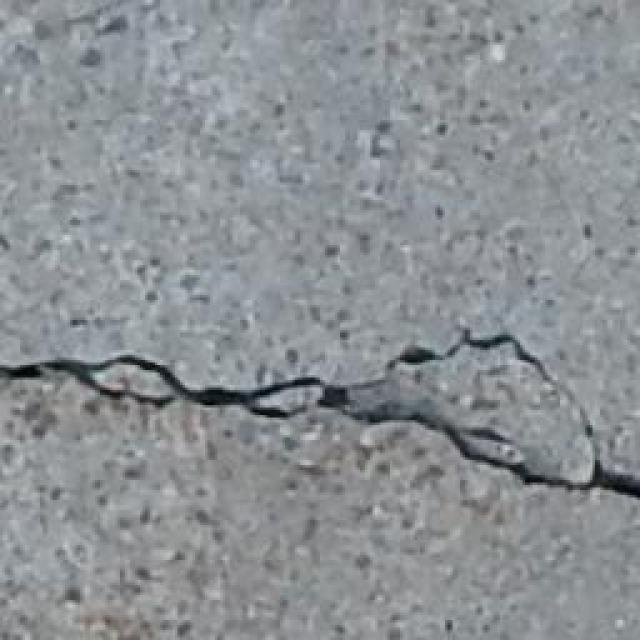concrete-crack: (3, 323, 640, 506)
